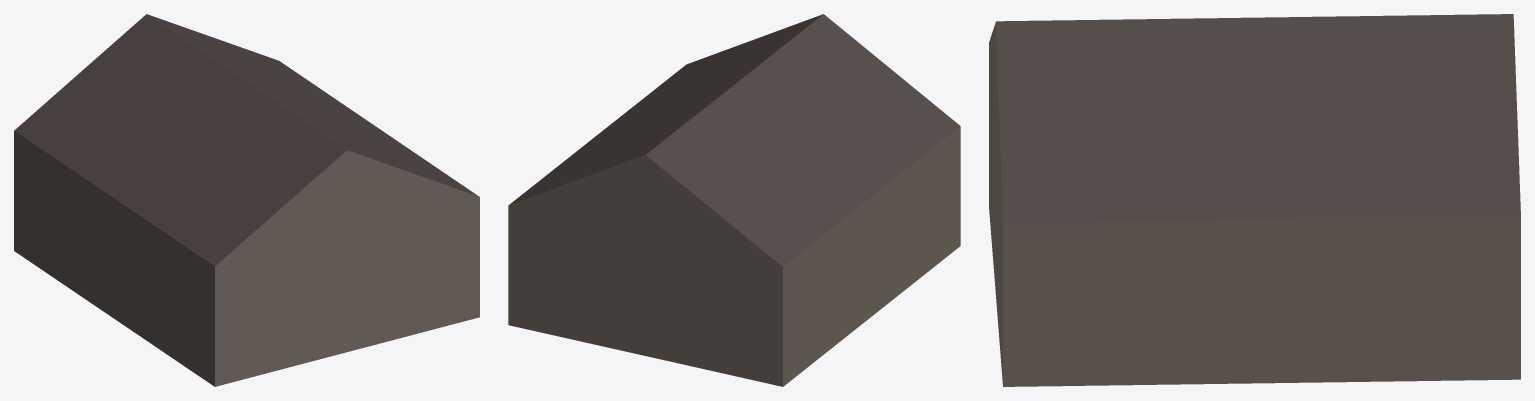
The picture shows the model from 3 angles, left to right: view 1: azimuth 30°, elevation 25°; view 2: azimuth 150°, elevation 25°; view 3: azimuth 270°, elevation 25°; orthographic projection. The views are drawn at different scales.
Parts seen in each view (by area): view 1: HP-w389701990; view 2: HP-w389701990; view 3: HP-w389701990.
Part boxes in pixels (x1=…): HP-w389701990: x1=14, y1=14, x2=479, y2=386; HP-w389701990: x1=508, y1=14, x2=960, y2=386; HP-w389701990: x1=989, y1=14, x2=1520, y2=386.
Size of the model in its own units: 7.35 by 5.04 by 8.81.
